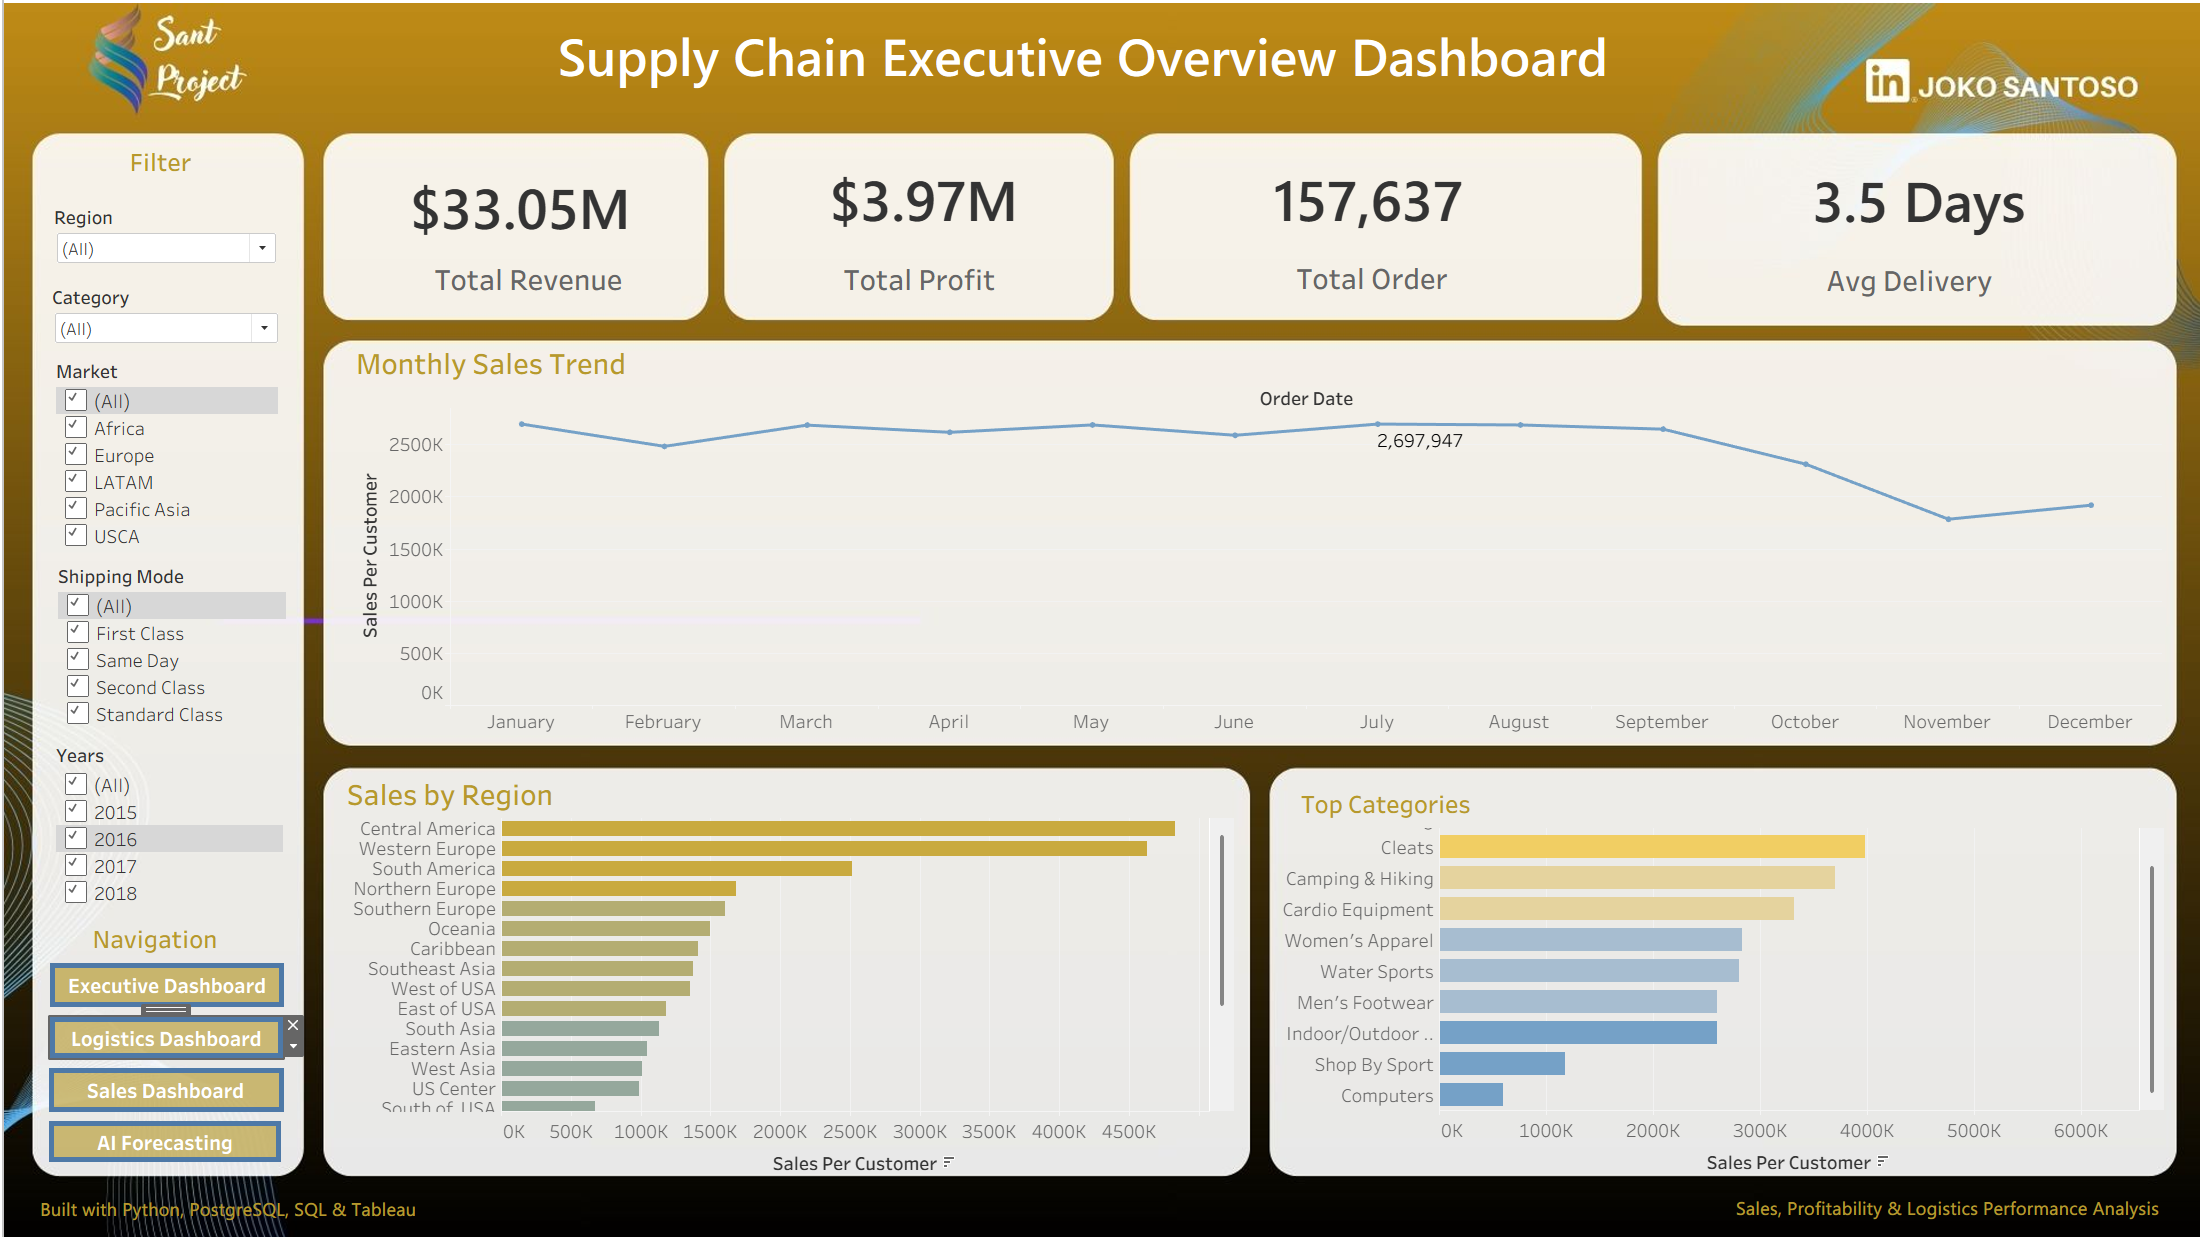

The dashboard page shown, as its layout file describes it:
{"tool":"tableau","page":{"name":"Executive Dashboard Professional","canvas":[2220,1360],"ordinal":0},"visuals":[{"type":"image","param":"C:/Users/santo/OneDrive/Dokumen/DiBimbing/BIG PROJECT/bg/Dashbord tableau suppla","box":[13,39,2199,1307.7]},{"type":"text","box":[399,62.5,1386,127.1]},{"type":"text","box":[110,216.3,119,33.8]},{"type":"worksheet","title":"KPI - Total Profit","mark":"Automatic","box":[831,232.6,222,74.8]},{"type":"worksheet","title":"KPI Total Orders","mark":"Automatic","box":[1276,233,218,85]},{"type":"worksheet","title":"KPI Avg Delivery","mark":"Automatic","box":[1722,233.7,424,89.2]},{"type":"worksheet","title":"KPI - Total Sales/ Revenue","mark":"Automatic","box":[410,241,241,79]},{"type":"filter","title":"Sales by Region","param":"[federated.1vegi2a0ab1bcw127uwzi0l9cpzs].[none:order_region:nk]","box":[63,276,225,92]},{"type":"text","box":[1292,330,178,40]},{"type":"text","box":[428,331,219,40]},{"type":"text","box":[840,331,177,40]},{"type":"text","box":[1822,332.1,193,40]},{"type":"filter","title":"Top Categories","param":"[federated.1vegi2a0ab1bcw127uwzi0l9cpzs].[none:category_name:nk]","box":[61,356,229,91]},{"type":"text","box":[361,413,454,44.1]},{"type":"filter","title":"Sales by Region","param":"[federated.1vegi2a0ab1bcw127uwzi0l9cpzs].[none:market:nk]","box":[65,430,222,204]},{"type":"worksheet","title":"Monthly Sales Trend","mark":"Line","rows":["sales_per_customer"],"cols":["order_date"],"box":[359,460.2,1812,346.4]},{"type":"filter","title":"Sales by Region","param":"[federated.1vegi2a0ab1bcw127uwzi0l9cpzs].[none:shipping_mode:nk]","box":[67,635,228,168]},{"type":"filter","title":"Monthly Sales Trend","param":"[federated.1vegi2a0ab1bcw127uwzi0l9cpzs].[yr:order_date:ok]","box":[65,814,227,179]},{"type":"text","box":[352,845.5,331,40]},{"type":"text","box":[1306,854.7,308,40]},{"type":"worksheet","title":"Sales by Region","mark":"Bar","rows":["order_region"],"cols":["sales_per_customer"],"box":[350,889.6,893,363.8]},{"type":"worksheet","title":"Top Categories","mark":"Bar","rows":["category_name"],"cols":["sales_per_customer"],"box":[1288,899.8,885,352.6]},{"type":"text","box":[82,994,164,33]},{"type":"dashboard-object","box":[59,1035,234,44]},{"type":"dashboard-object","box":[59,1089,233,41]},{"type":"dashboard-object","box":[58,1140,235,44]},{"type":"dashboard-object","box":[58,1193,232,41]},{"type":"text","box":[1708,1264,464,31]},{"type":"text","box":[45,1265,385,31]}]}

Visuals, with their boxes on the page's 2220x1360 design canvas (x1, y1, x2, y2). These are canvas units, not pixel positions in the 2200x1237 screenshot, which may show the page scaled, cropped or inside an application window:
image: [x1=13, y1=39, x2=2212, y2=1347]
text: [x1=399, y1=62, x2=1785, y2=190]
text: [x1=110, y1=216, x2=229, y2=250]
"KPI - Total Profit" worksheet: [x1=831, y1=233, x2=1053, y2=307]
"KPI Total Orders" worksheet: [x1=1276, y1=233, x2=1494, y2=318]
"KPI Avg Delivery" worksheet: [x1=1722, y1=234, x2=2146, y2=323]
"KPI - Total Sales/ Revenue" worksheet: [x1=410, y1=241, x2=651, y2=320]
"Sales by Region" filter: [x1=63, y1=276, x2=288, y2=368]
text: [x1=1292, y1=330, x2=1470, y2=370]
text: [x1=428, y1=331, x2=647, y2=371]
text: [x1=840, y1=331, x2=1017, y2=371]
text: [x1=1822, y1=332, x2=2015, y2=372]
"Top Categories" filter: [x1=61, y1=356, x2=290, y2=447]
text: [x1=361, y1=413, x2=815, y2=457]
"Sales by Region" filter: [x1=65, y1=430, x2=287, y2=634]
"Monthly Sales Trend" worksheet (Line marks): [x1=359, y1=460, x2=2171, y2=807]
"Sales by Region" filter: [x1=67, y1=635, x2=295, y2=803]
"Monthly Sales Trend" filter: [x1=65, y1=814, x2=292, y2=993]
text: [x1=352, y1=846, x2=683, y2=886]
text: [x1=1306, y1=855, x2=1614, y2=895]
"Sales by Region" worksheet (Bar marks): [x1=350, y1=890, x2=1243, y2=1253]
"Top Categories" worksheet (Bar marks): [x1=1288, y1=900, x2=2173, y2=1252]
text: [x1=82, y1=994, x2=246, y2=1027]
dashboard-object: [x1=59, y1=1035, x2=293, y2=1079]
dashboard-object: [x1=59, y1=1089, x2=292, y2=1130]
dashboard-object: [x1=58, y1=1140, x2=293, y2=1184]
dashboard-object: [x1=58, y1=1193, x2=290, y2=1234]
text: [x1=1708, y1=1264, x2=2172, y2=1295]
text: [x1=45, y1=1265, x2=430, y2=1296]
